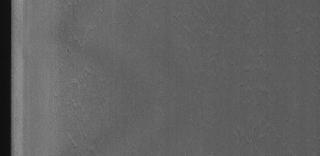silk spot: (46, 7, 106, 138)
